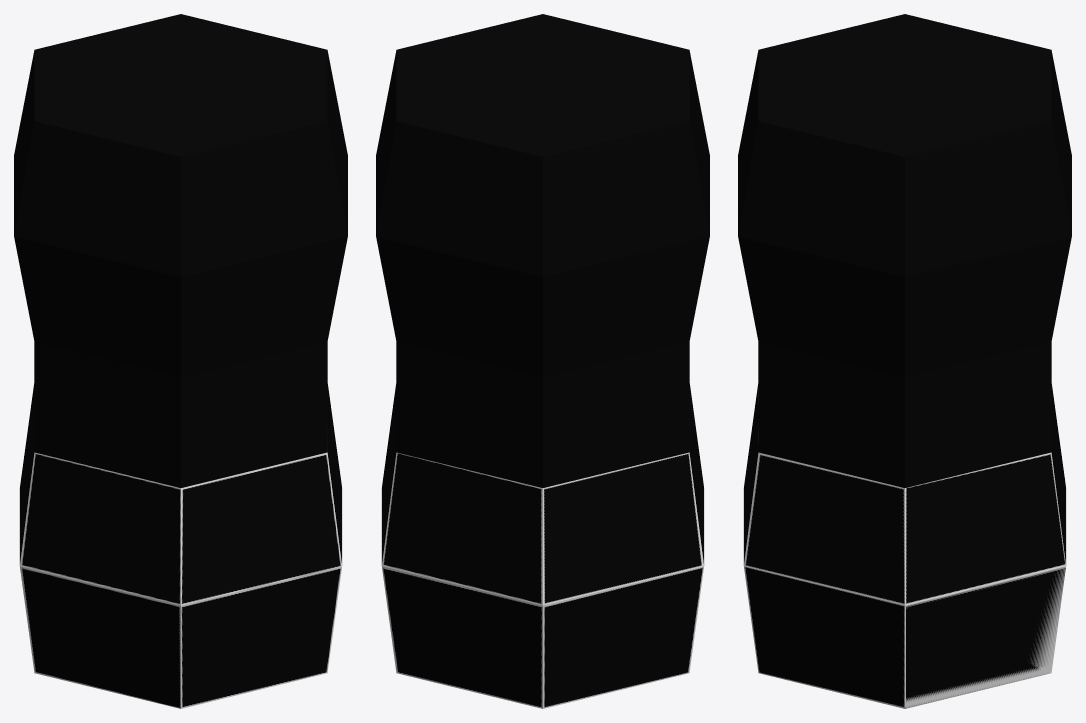
Rendered from bamboo.FBX.
The picture shows the model from 3 angles, left to right: view 1: azimuth 30°, elevation 25°; view 2: azimuth 150°, elevation 25°; view 3: azimuth 270°, elevation 25°; orthographic projection.
Parts seen in each view (by area): view 1: Bamboo; view 2: Bamboo; view 3: Bamboo.
Part boxes in pixels (x1,y1,x2,y2): Bamboo: (14, 14, 347, 708); Bamboo: (376, 14, 709, 708); Bamboo: (738, 14, 1071, 708).
Bounding box in the file's own units: 0.2894 × 0.4572 × 0.2506.
